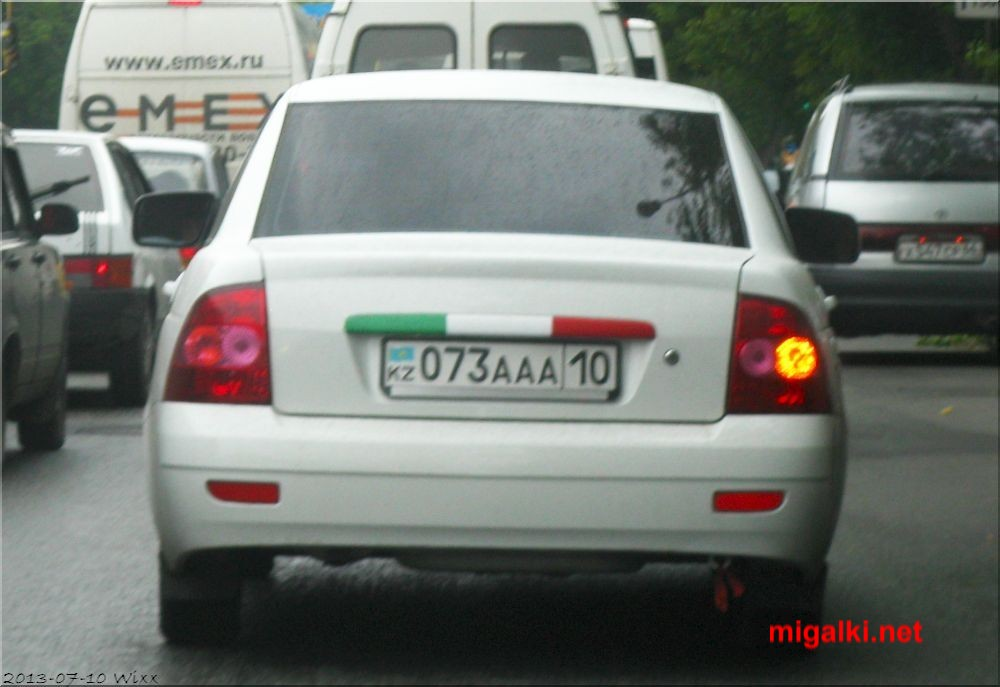license_plate: (380, 339, 619, 397)
